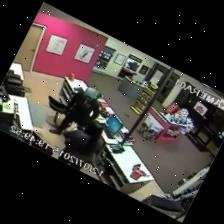person: (49, 87, 99, 134), (58, 120, 102, 170)
